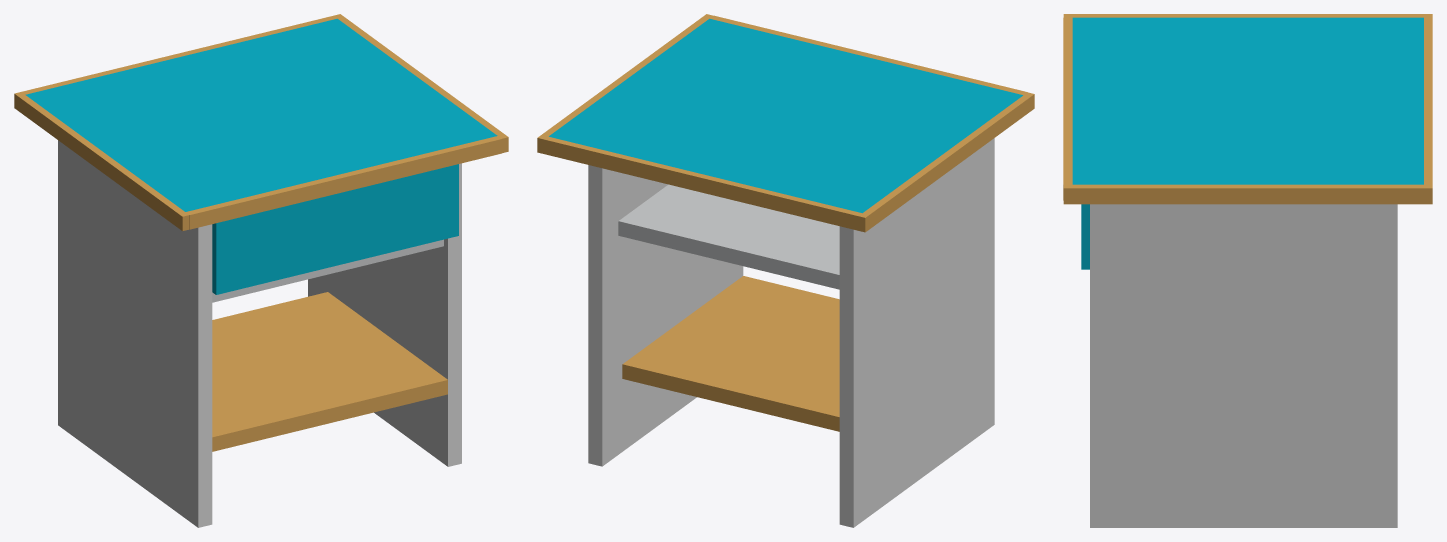
Rendered from mesaco.glb.
3 views of the same model, side by side, from view 1: azimuth 30°, elevation 25°; view 2: azimuth 150°, elevation 25°; view 3: azimuth 270°, elevation 25° (orthographic). The views are drawn at different scales.
Visible parts, largest first — view 1: Mesh_Mesh_head_geo.001_lambert2SG.001; view 2: Mesh_Mesh_head_geo.001_lambert2SG.001; view 3: Mesh_Mesh_head_geo.001_lambert2SG.001.
Boxes of the visible parts, left/top/right/bottom form: Mesh_Mesh_head_geo.001_lambert2SG.001: left=14, top=14, right=508, bottom=527; Mesh_Mesh_head_geo.001_lambert2SG.001: left=537, top=14, right=1034, bottom=527; Mesh_Mesh_head_geo.001_lambert2SG.001: left=1063, top=14, right=1432, bottom=527.
Bounding box in the file's own units: 0.47 × 0.45 × 0.4205.
